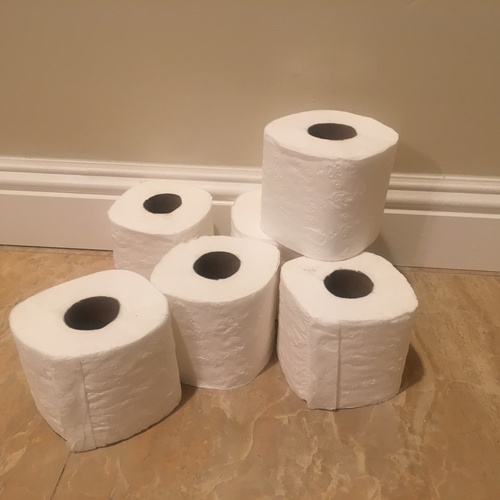roll: (7, 269, 185, 450), (276, 250, 419, 412), (261, 109, 400, 261), (150, 236, 278, 392), (107, 183, 215, 274), (228, 187, 304, 262)
